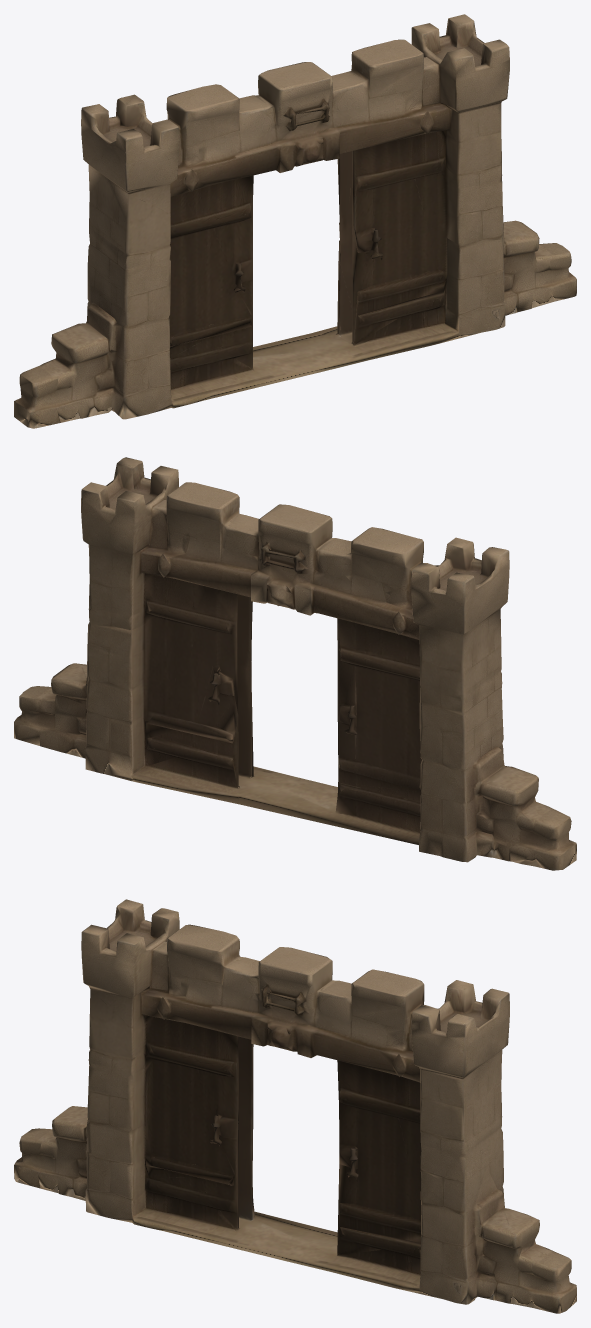
Rendered from kapi.glb.
The picture shows the model from 3 angles, top to bottom: view 1: azimuth 30°, elevation 25°; view 2: azimuth 150°, elevation 25°; view 3: azimuth 330°, elevation 25°; orthographic projection.
Bounding box in the file's own units: 1.89 × 0.9452 × 0.2707.
Materials: 1 (1 with a texture image).
